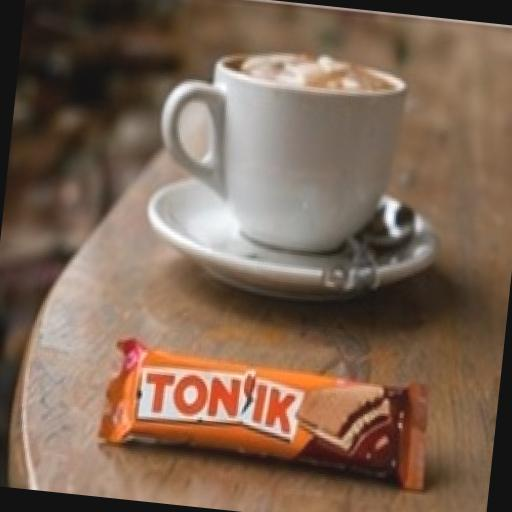tonik: (38, 165, 512, 512)
